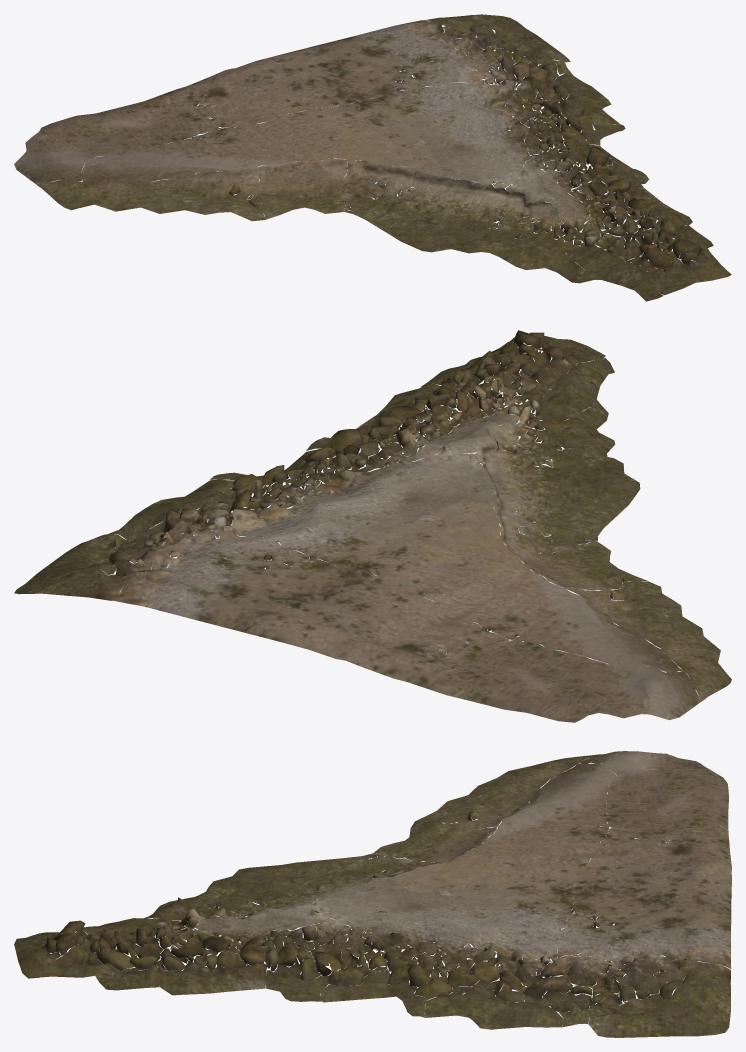
Rendered from ph_coast_rocks_02.glb.
The picture shows the model from 3 angles, top to bottom: view 1: azimuth 30°, elevation 25°; view 2: azimuth 150°, elevation 25°; view 3: azimuth 270°, elevation 25°; orthographic projection. The views are drawn at different scales.
Visible parts, largest first — view 1: coast_rocks_02; view 2: coast_rocks_02; view 3: coast_rocks_02.
Part boxes in pixels (bbox=[...]): coast_rocks_02: bbox=[14, 14, 731, 301]; coast_rocks_02: bbox=[14, 330, 731, 722]; coast_rocks_02: bbox=[14, 751, 731, 1037].
Bounding box in the file's own units: 45.95 × 3.08 × 49.46.
1 material, 1 textured.
